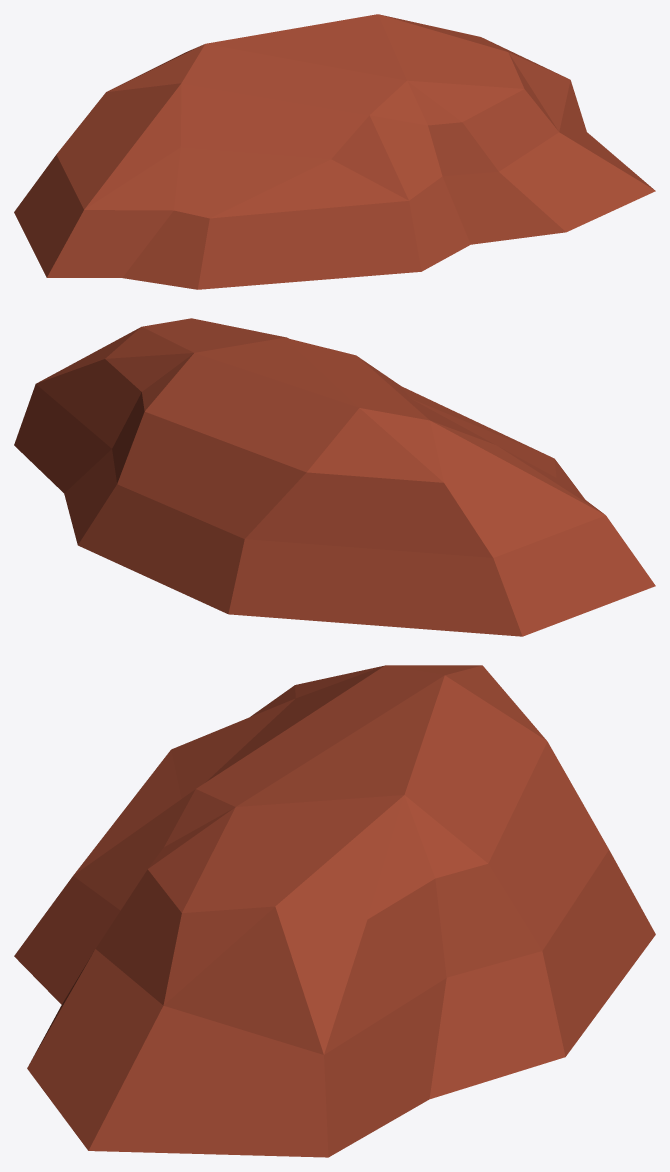
File: SandWall005.fbx
3 renders of one model, top to bottom at view 1: azimuth 30°, elevation 25°; view 2: azimuth 150°, elevation 25°; view 3: azimuth 270°, elevation 25°, orthographic. The views are drawn at different scales.
Visible parts, largest first — view 1: Cylinder005; view 2: Cylinder005; view 3: Cylinder005.
Boxes of the visible parts, x1,y1,x2,y2 form: Cylinder005: (14, 14, 655, 289); Cylinder005: (14, 318, 655, 636); Cylinder005: (14, 665, 655, 1157).
Size of the model in its own units: 1075 by 268 by 698.
